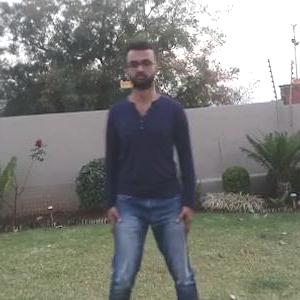follow: (97, 40, 192, 299)
